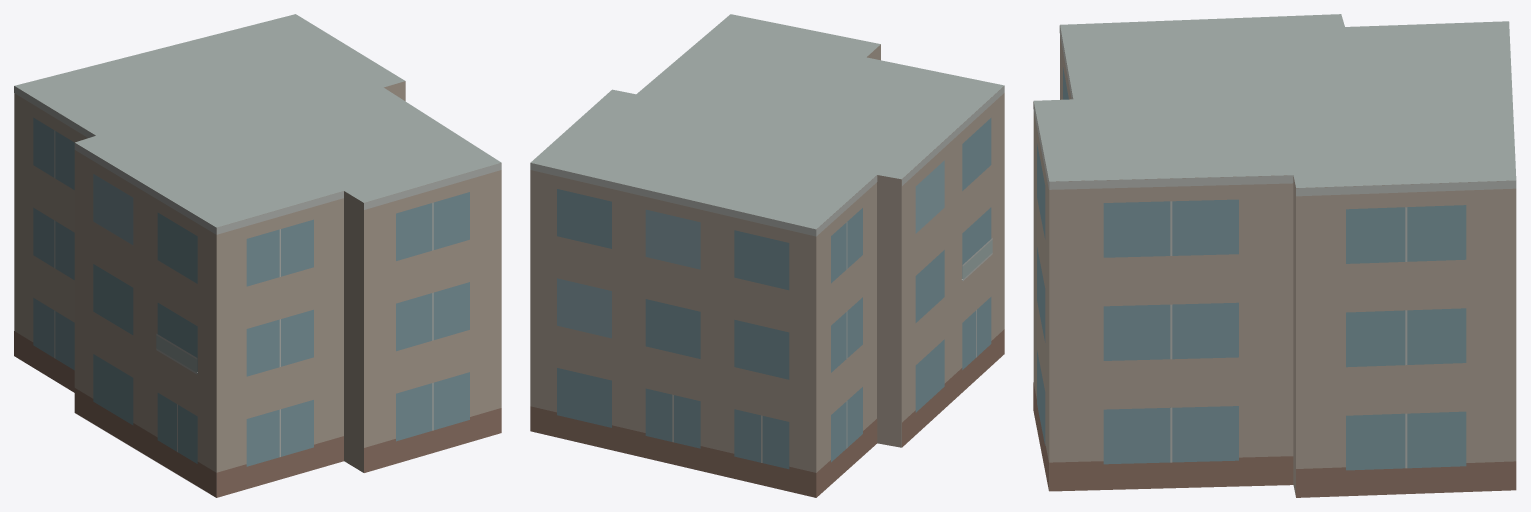
Rendered from survey-upis-32751246.glb.
3 views of the same model, side by side, from view 1: azimuth 30°, elevation 25°; view 2: azimuth 150°, elevation 25°; view 3: azimuth 270°, elevation 25° (orthographic). The views are drawn at different scales.
Visible parts, largest first — view 1: survey-upis-32751246.tmp; view 2: survey-upis-32751246.tmp; view 3: survey-upis-32751246.tmp.
Part boxes in pixels (x1,y1,x2,y2): survey-upis-32751246.tmp: (14, 14, 501, 497); survey-upis-32751246.tmp: (530, 14, 1004, 497); survey-upis-32751246.tmp: (1033, 14, 1516, 497).
Size of the model in its own units: 11.04 by 9.15 by 12.94.
